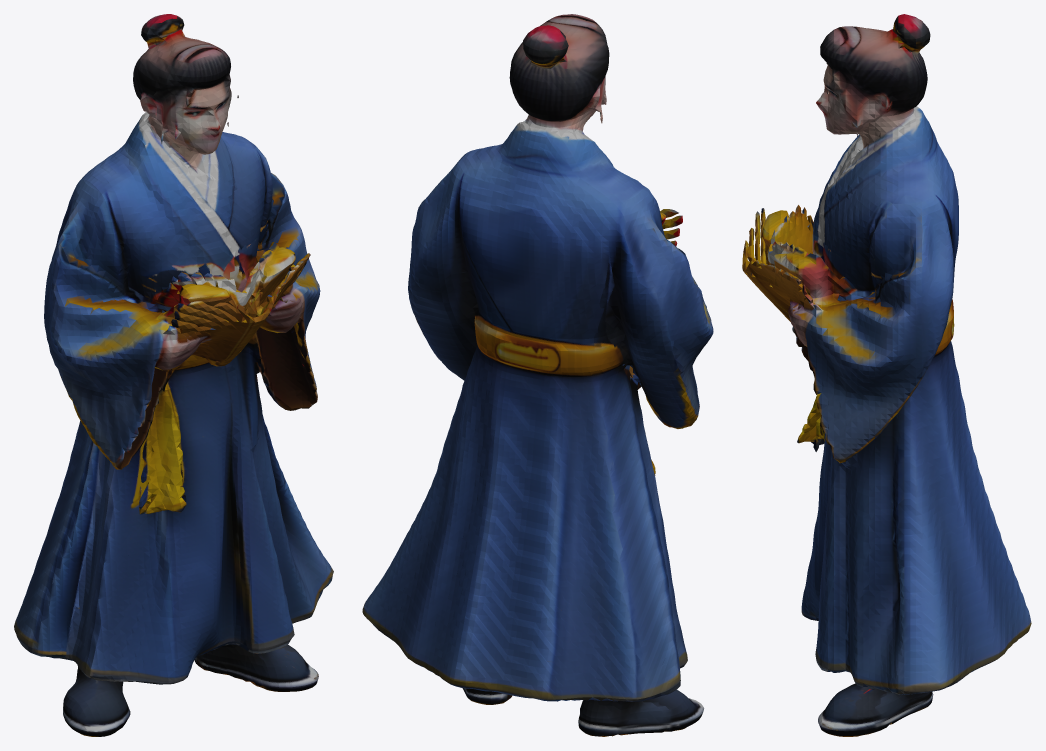
Rendered from body.glb.
3 views of the same model, side by side, from view 1: azimuth 30°, elevation 25°; view 2: azimuth 150°, elevation 25°; view 3: azimuth 270°, elevation 25° (orthographic). The views are drawn at different scales.
Visible parts, largest first — view 1: geometry_0; view 2: geometry_0; view 3: geometry_0.
Part boxes in pixels (x1,y1,x2,y2): geometry_0: (14, 14, 333, 736); geometry_0: (362, 14, 713, 736); geometry_0: (742, 14, 1031, 736).
Size of the model in its own units: 0.9246 by 1.96 by 0.7712.
Materials: 1 (1 with a texture image).
